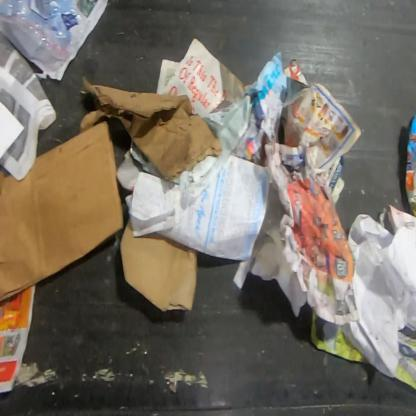cardboard: (0, 109, 125, 304), (78, 75, 223, 181), (119, 217, 198, 314)
soft_plastic: (0, 0, 92, 73)
